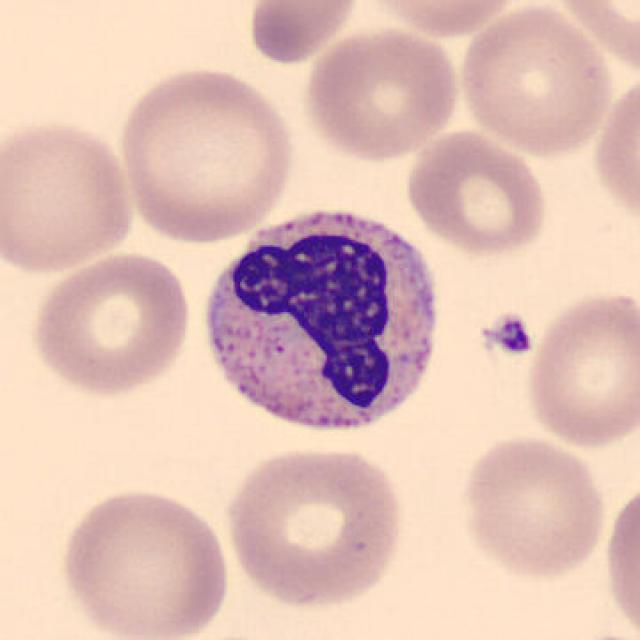Neutrophil: (190, 196, 452, 451)
Platelets: (480, 308, 537, 359)
RBC: (114, 62, 297, 245), (220, 441, 409, 610), (53, 483, 235, 640), (453, 2, 617, 158), (25, 247, 194, 398), (455, 432, 612, 580), (299, 23, 462, 164), (0, 113, 139, 277), (402, 125, 551, 258), (521, 286, 640, 451), (244, 0, 362, 67), (590, 69, 638, 232), (547, 0, 638, 79), (359, 0, 530, 39), (601, 476, 640, 640)
